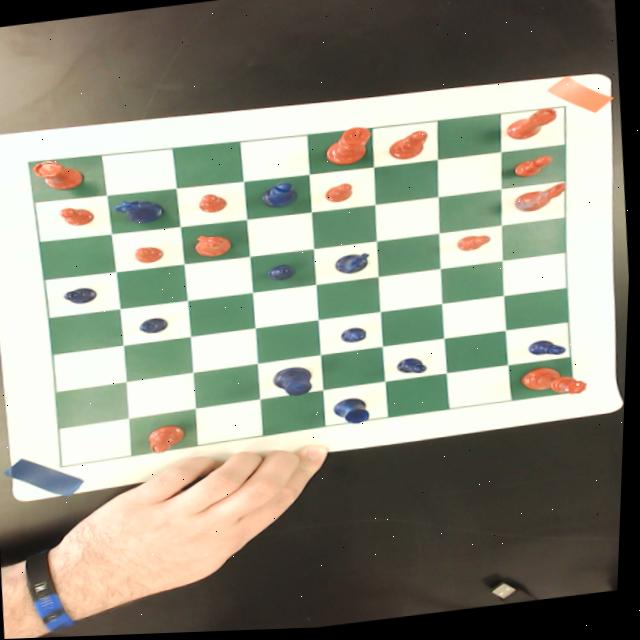B: (260, 183, 298, 213)
K: (273, 367, 316, 400)
N: (112, 197, 167, 229), (333, 254, 373, 278)
P: (529, 342, 569, 364), (62, 286, 101, 306), (399, 359, 430, 380), (140, 317, 172, 337), (267, 265, 299, 284), (340, 328, 370, 346)
R: (336, 399, 375, 429)
b: (385, 132, 430, 165), (147, 425, 190, 455)
k: (322, 128, 374, 169)
n: (511, 185, 568, 217), (191, 233, 236, 261)
p: (511, 158, 555, 183), (58, 205, 96, 229), (196, 192, 229, 218), (455, 236, 492, 258), (134, 244, 166, 266), (324, 185, 354, 207)
q: (521, 365, 590, 404)
r: (28, 156, 88, 196), (505, 111, 560, 145)
